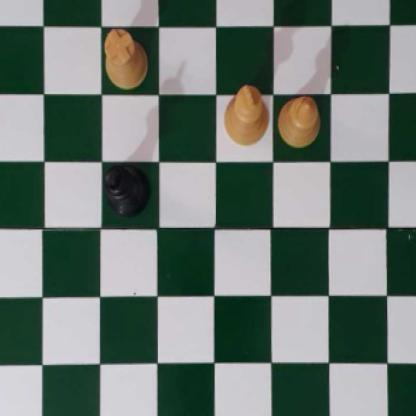black-king: (105, 160, 148, 214)
white-bishop: (277, 93, 320, 146)
white-king: (219, 86, 270, 144)
white-rook: (102, 28, 147, 84)
